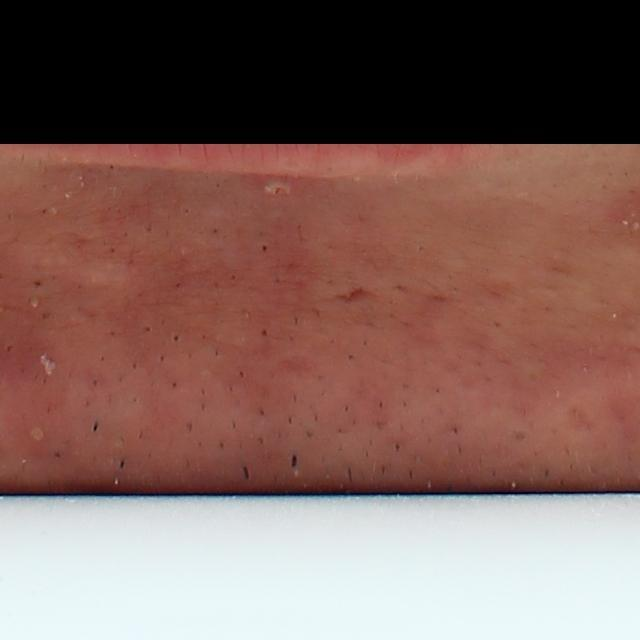atrophic_scar: (331, 284, 374, 300)
hypertrophic_scar: (17, 242, 136, 289)
pustule: (251, 174, 297, 201), (26, 420, 62, 451)
